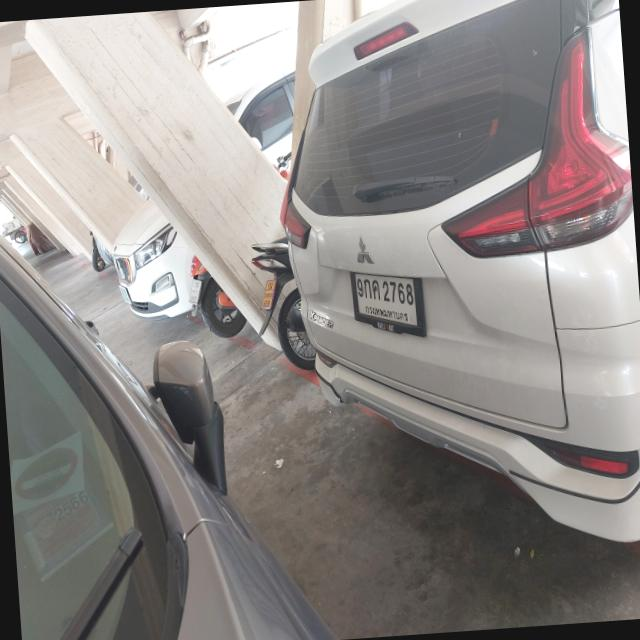license_plate: (349, 262, 430, 340), (258, 277, 278, 310), (184, 276, 204, 305)
